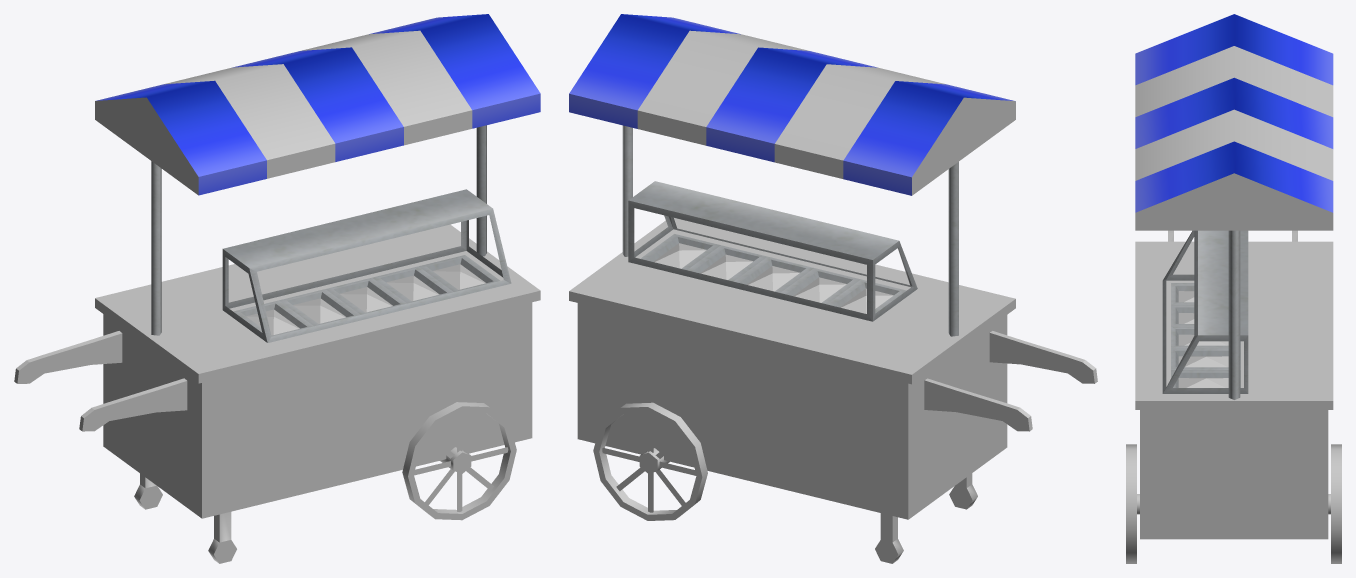
The model's file is IceCream_Cart.FBX.
3 renders of one model, left to right at view 1: azimuth 30°, elevation 25°; view 2: azimuth 150°, elevation 25°; view 3: azimuth 270°, elevation 25°, orthographic. The views are drawn at different scales.
Visible parts, largest first — view 1: IceCream_Cart; view 2: IceCream_Cart; view 3: IceCream_Cart.
Part boxes in pixels (left/top/right/bottom): IceCream_Cart: left=14, top=14, right=540, bottom=563; IceCream_Cart: left=569, top=14, right=1097, bottom=563; IceCream_Cart: left=1126, top=14, right=1341, bottom=563.
Size of the model in its own units: 2.69 by 1.2 by 2.59.
